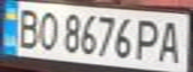6: (112, 13, 139, 60), (78, 11, 100, 56)
7: (97, 12, 118, 57)
8: (57, 10, 81, 55)
A: (154, 17, 187, 64)
B: (12, 4, 42, 50)
O: (33, 8, 60, 52)
P: (133, 16, 163, 62)
